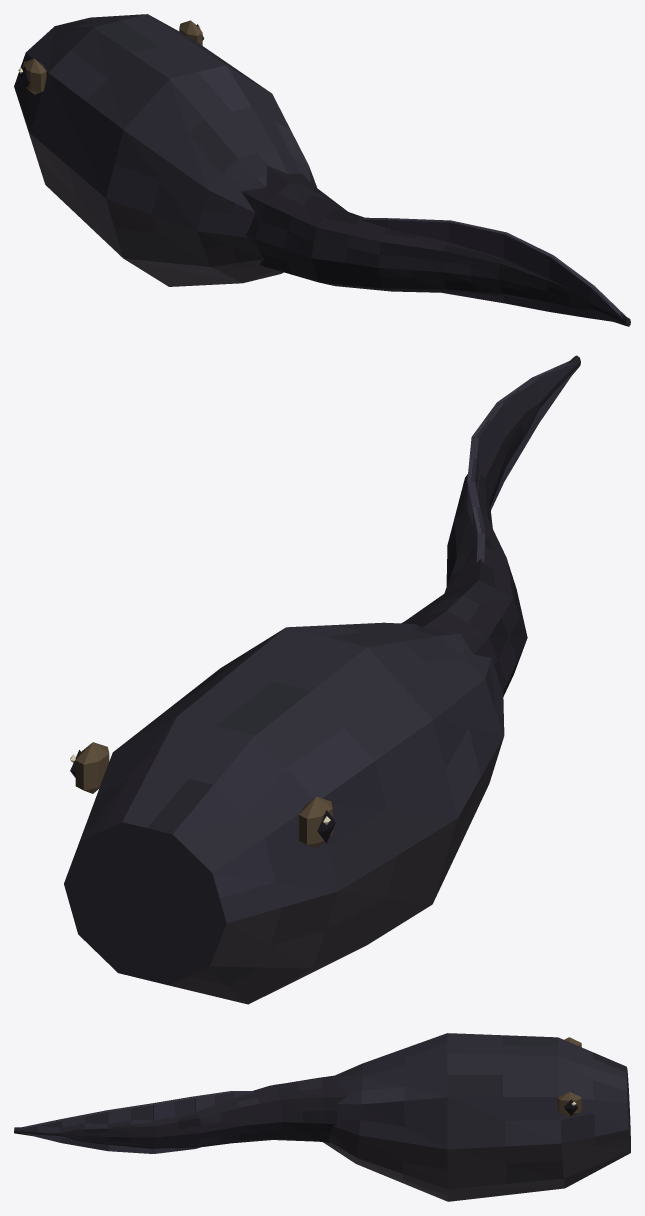
File: mon_peeper_tadpole.glb
3 renders of one model, top to bottom at view 1: azimuth 30°, elevation 25°; view 2: azimuth 150°, elevation 25°; view 3: azimuth 270°, elevation 25°, orthographic. The views are drawn at different scales.
Visible parts, largest first — view 1: closed_body; view 2: closed_body; view 3: closed_body.
Part boxes in pixels (x1,y1,x2,y2): closed_body: [14, 14, 630, 326]; closed_body: [64, 355, 580, 1004]; closed_body: [14, 1033, 630, 1201].
Bounding box in the file's own units: 0.0262 × 0.0235 × 0.0883.
1 material, 1 textured.
